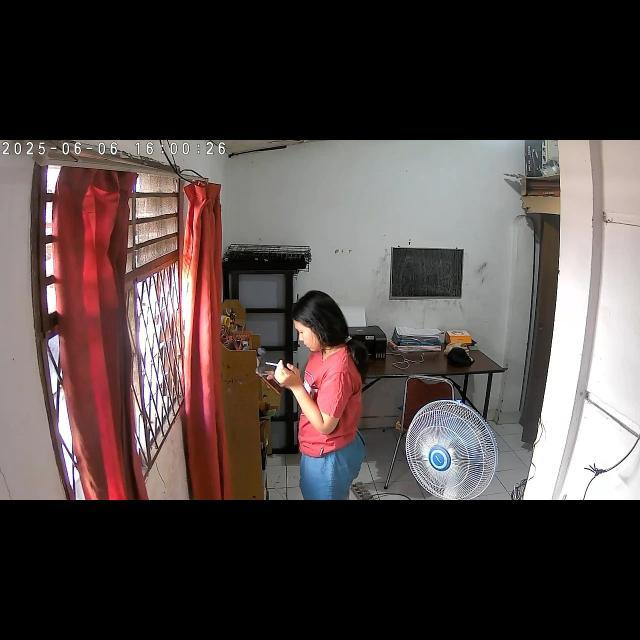rokok: (262, 359, 284, 369)
